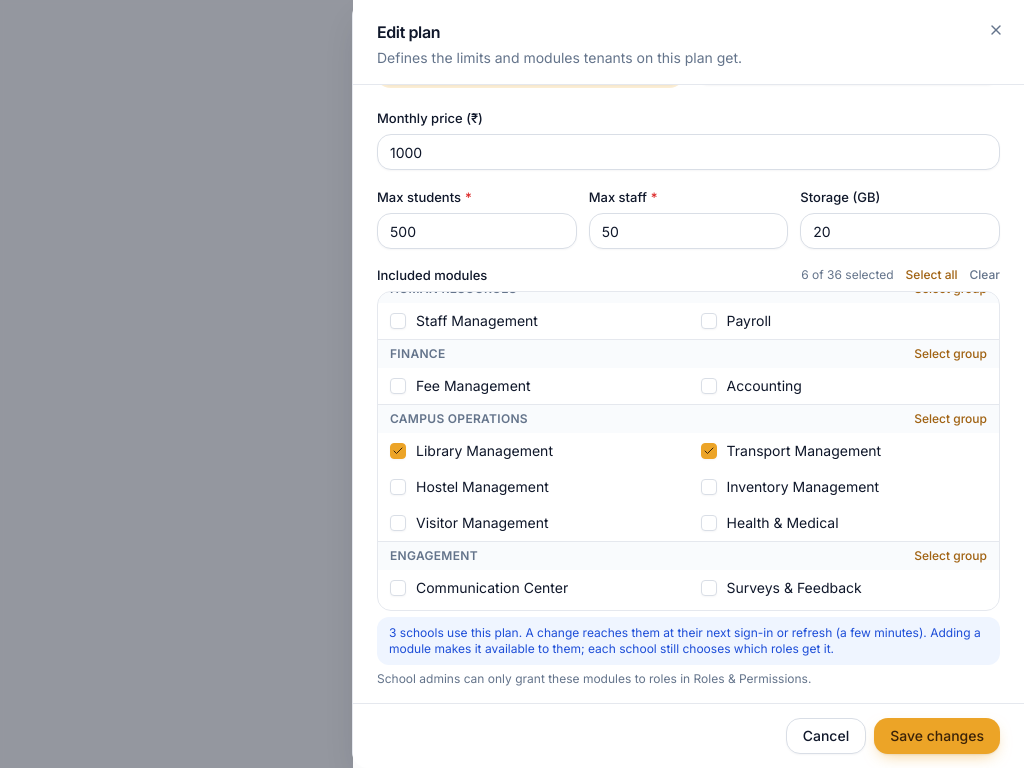
Test case: PlanFormDialog › tells the platform operator how many schools a change reaches, and what removing a module does
This screenshot has width=1024, height=768.
(page scrolled)
Check: the message shows "3 schools use this plan", box x1=377 y1=617 x2=1000 y2=665
Click the checkbox named "Transport Management" next to "Transport Management".
click(708, 451)  # box x1=700 y1=443 x2=716 y2=459
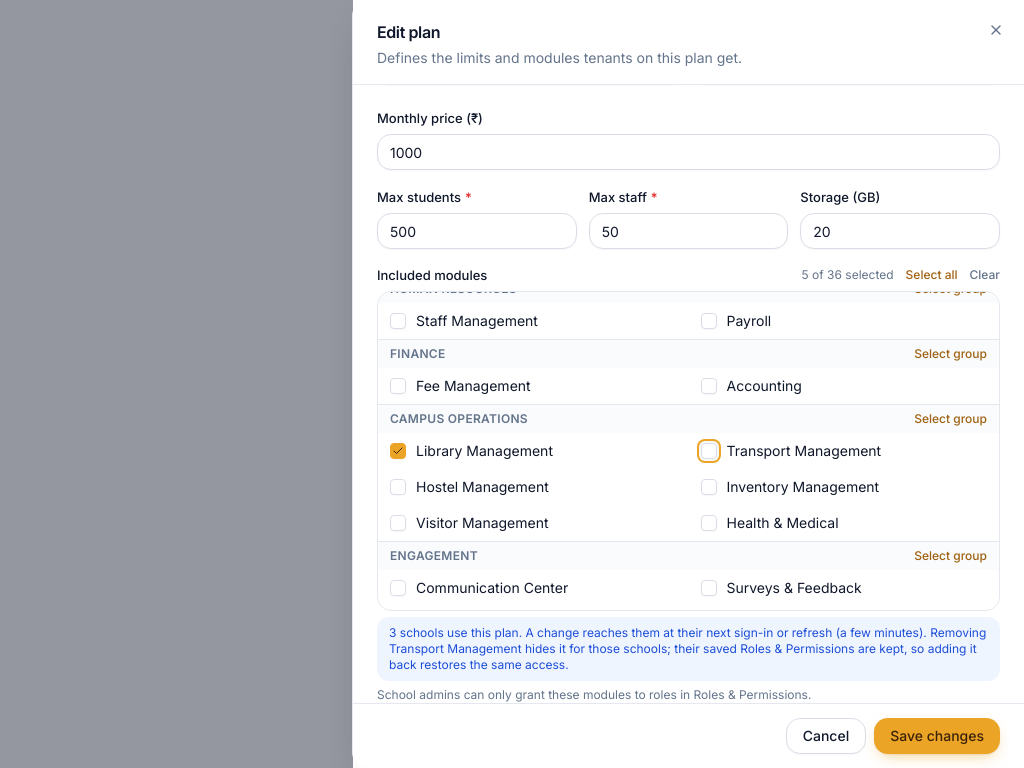
Check: the message shows "Removing Transport Management hides it", box x1=389 y1=625 x2=986 y2=672
Check: the message shows "saved Roles & Permissions are kept", box x1=389 y1=625 x2=986 y2=672
